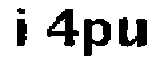4: (43, 6, 80, 52)
i: (11, 6, 32, 50)
p: (81, 16, 113, 60)
u: (118, 15, 150, 50)
